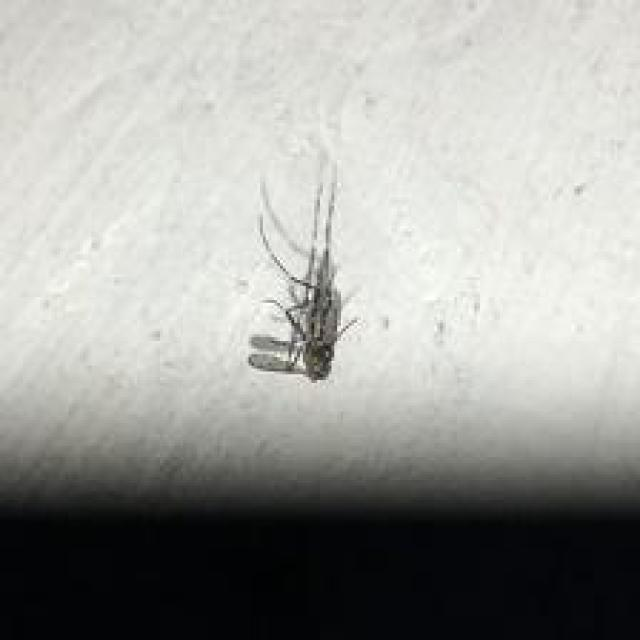Aedes albopictus: (244, 163, 359, 383)
